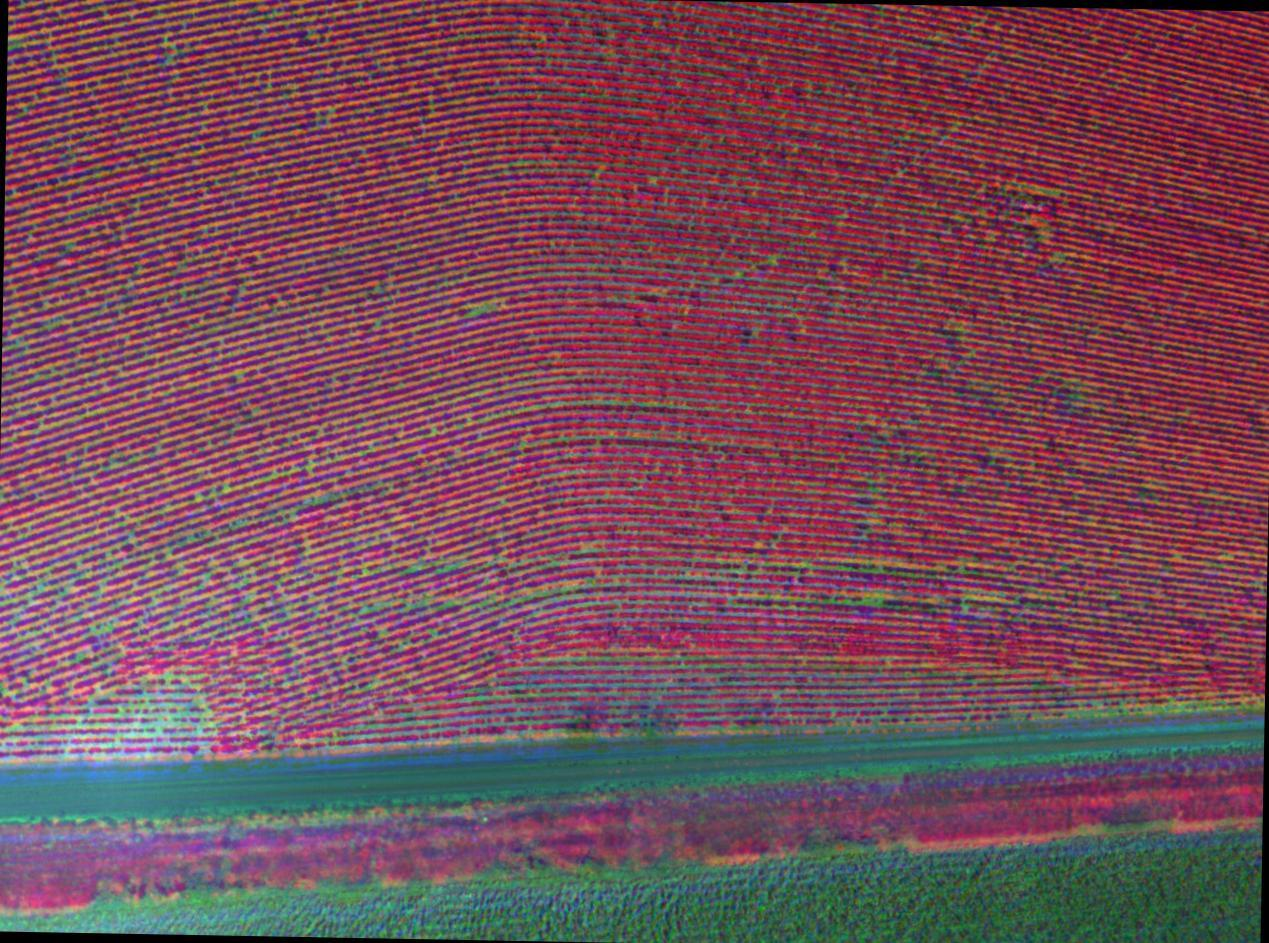dc: (100, 628, 107, 633), (865, 599, 870, 603), (315, 499, 319, 503), (411, 567, 415, 571), (769, 257, 772, 261)
